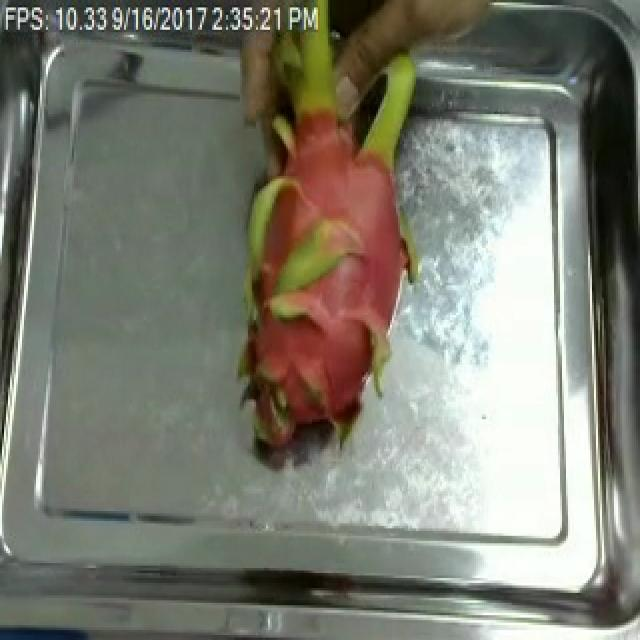fruit: (178, 7, 452, 454)
